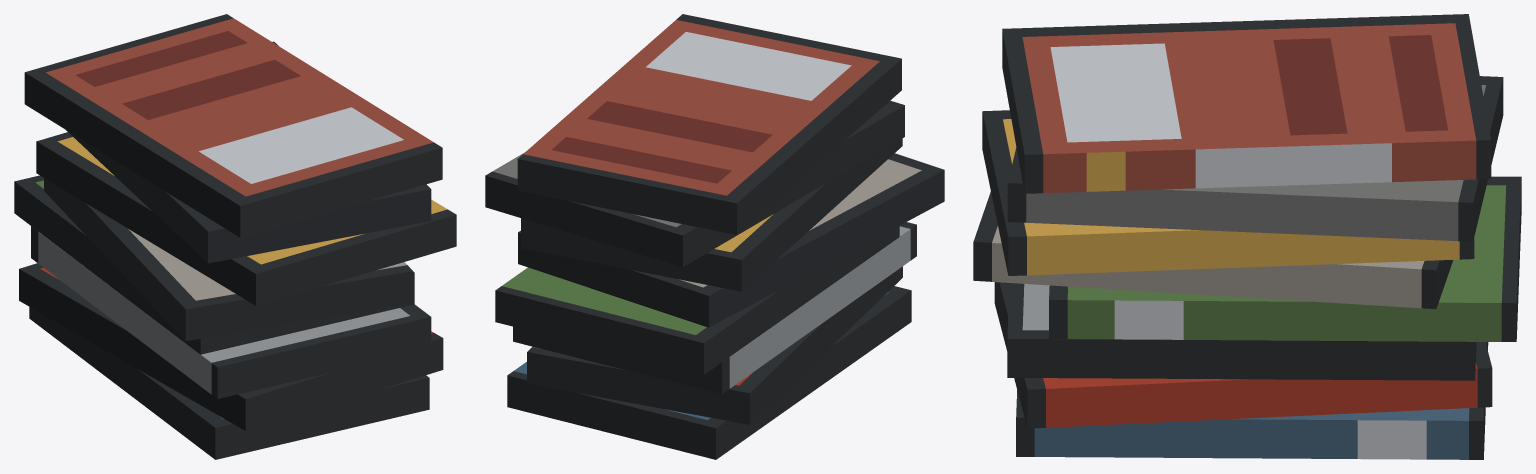
Rendered from SM_Prop_DVDStack_02.fbx.
The picture shows the model from 3 angles, left to right: view 1: azimuth 30°, elevation 25°; view 2: azimuth 150°, elevation 25°; view 3: azimuth 270°, elevation 25°; orthographic projection. The views are drawn at different scales.
Parts seen in each view (by area): view 1: SM_Prop_DVDStack_02; view 2: SM_Prop_DVDStack_02; view 3: SM_Prop_DVDStack_02.
Part boxes in pixels (bbox=[...]): SM_Prop_DVDStack_02: bbox=[14, 14, 456, 459]; SM_Prop_DVDStack_02: bbox=[485, 14, 944, 459]; SM_Prop_DVDStack_02: bbox=[973, 14, 1521, 459].
Bounding box in the file's own units: 28.38 × 25.15 × 40.04.
